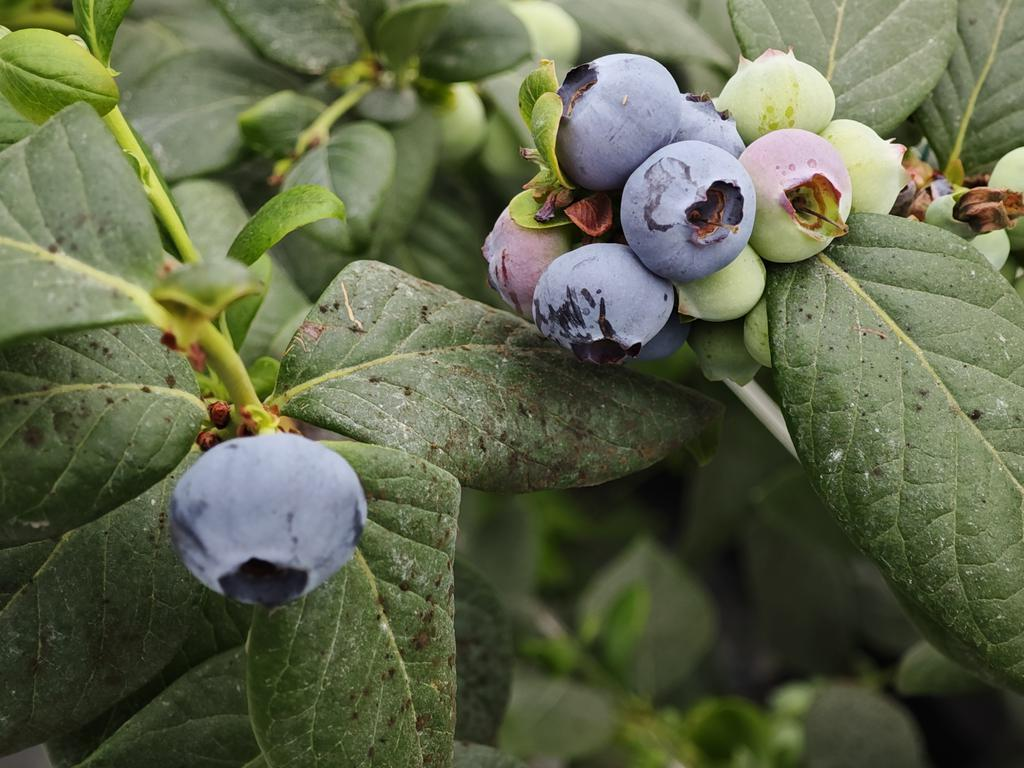RipeBlueBerry: (168, 432, 372, 611), (618, 137, 760, 283), (530, 239, 673, 362), (559, 52, 686, 187)
Semi-RipeBlueBerry: (743, 128, 857, 264)
UnripeBlueBerry: (715, 47, 839, 136)
